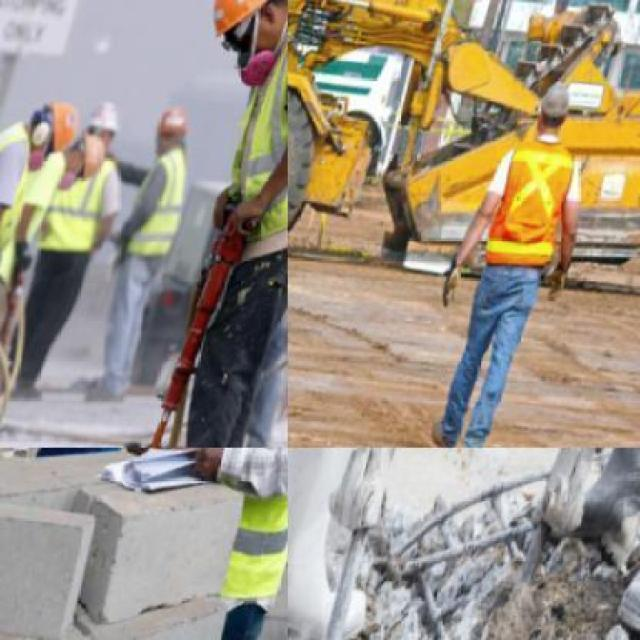Vest: (177, 448, 286, 608), (222, 12, 286, 268), (492, 137, 592, 277), (37, 148, 129, 268), (0, 100, 52, 281), (120, 151, 198, 269)
